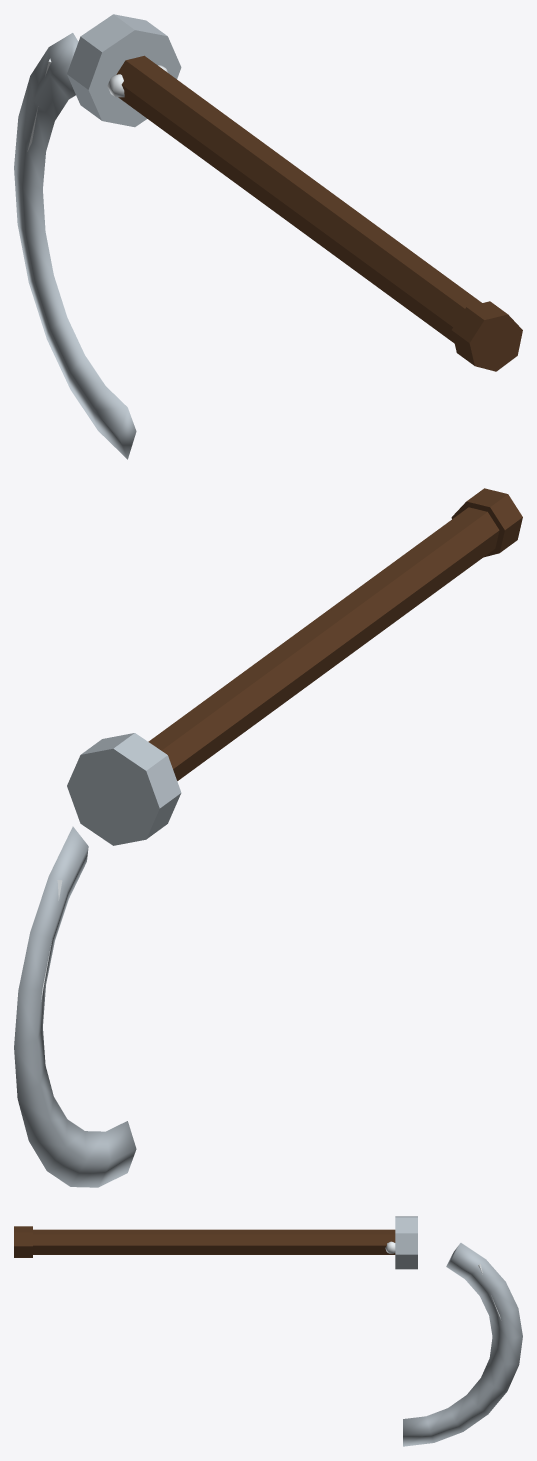
File: Tool_Sickle_Steel.fbx
The picture shows the model from 3 angles, top to bottom: view 1: azimuth 30°, elevation 25°; view 2: azimuth 150°, elevation 25°; view 3: azimuth 270°, elevation 25°; orthographic projection. The views are drawn at different scales.
Parts seen in each view (by area): view 1: Tool_Sickle_Steel; view 2: Tool_Sickle_Steel; view 3: Tool_Sickle_Steel.
Part boxes in pixels (<box>): Tool_Sickle_Steel: <box>14,14,522,459</box>; Tool_Sickle_Steel: <box>14,488,522,1187</box>; Tool_Sickle_Steel: <box>14,1216,522,1446</box>.
Bounding box in the file's own units: 0.0297 × 0.1329 × 0.267.
